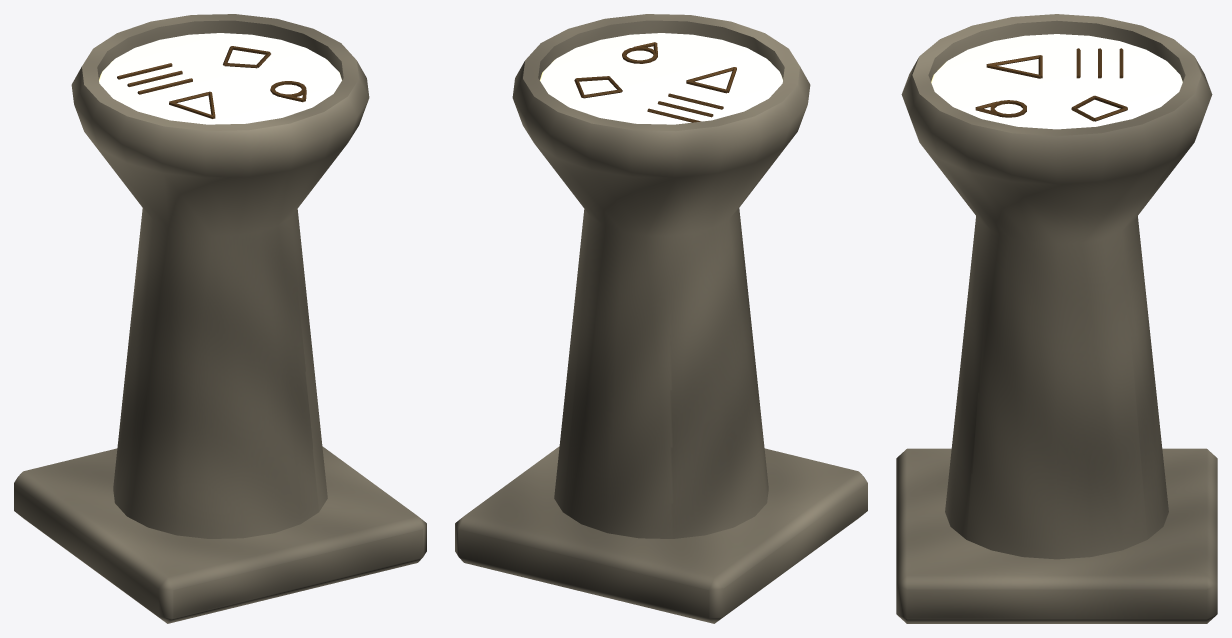
File: Furn_MagicLab_ElementStand.fbx
3 renders of one model, left to right at view 1: azimuth 30°, elevation 25°; view 2: azimuth 150°, elevation 25°; view 3: azimuth 270°, elevation 25°, orthographic. The views are drawn at different scales.
Visible parts, largest first — view 1: Furn_MagicLab_ElementStand; view 2: Furn_MagicLab_ElementStand; view 3: Furn_MagicLab_ElementStand.
Part boxes in pixels (left/top/right/bottom): Furn_MagicLab_ElementStand: left=14, top=14, right=426, bottom=623; Furn_MagicLab_ElementStand: left=455, top=14, right=867, bottom=623; Furn_MagicLab_ElementStand: left=896, top=14, right=1217, bottom=623.
Bounding box in the file's own units: 0.6 × 1 × 0.6.
Materials: 3 (2 with a texture image).
